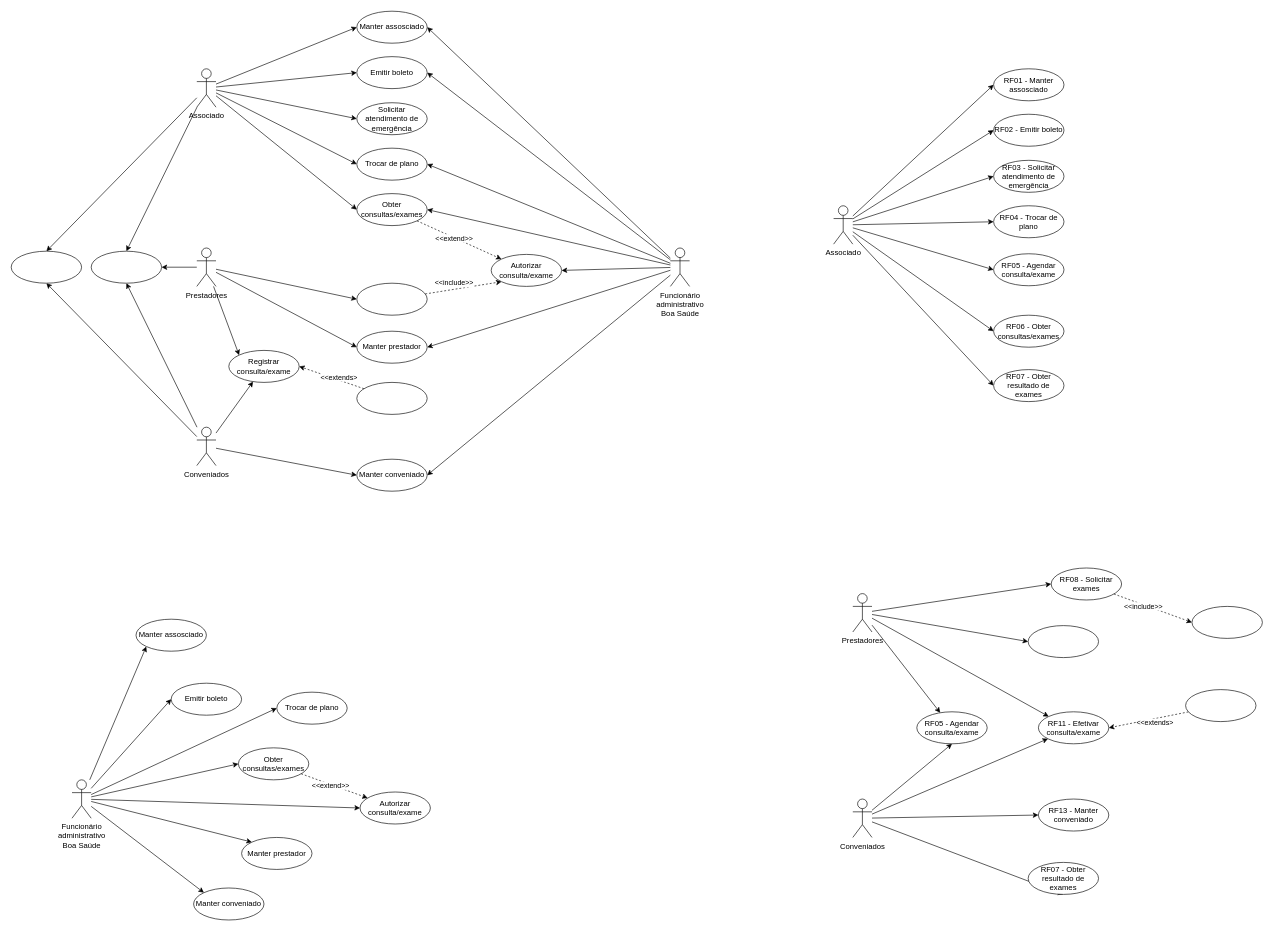
Image size: 1274x931. Some labels were removed from this diagram. The shapes that lost their labels are listed below. From the top down, each one's centre as x and y in pixels, then its label:
At [46,267]: "Obter resultado de exames".
At [126,267]: "Agendar consulta/exame".
At [391,299]: "Solicitar exames".
At [391,398]: "Registrar resultado do exame".
At [1063,641]: "RF10 - Manter prestador".
At [1226,622]: "RF09 - Autorizar consulta/exame".
At [1220,705]: "RF12 - Registrar resultado do exame".
